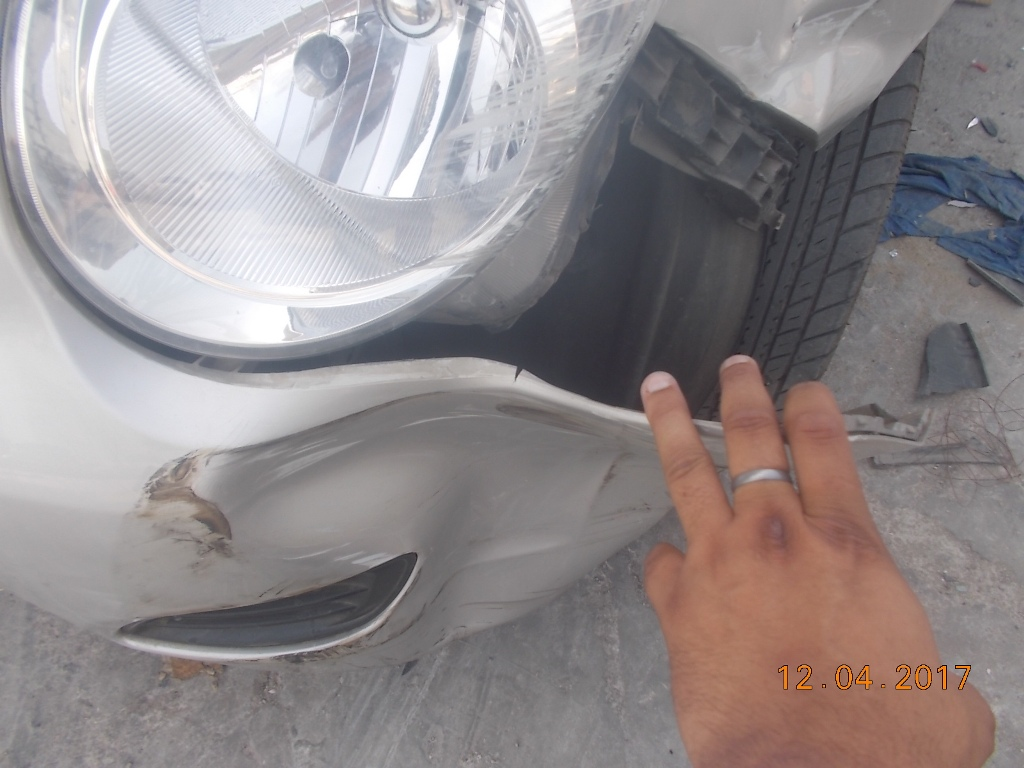Dislocation: (489, 22, 840, 437)
